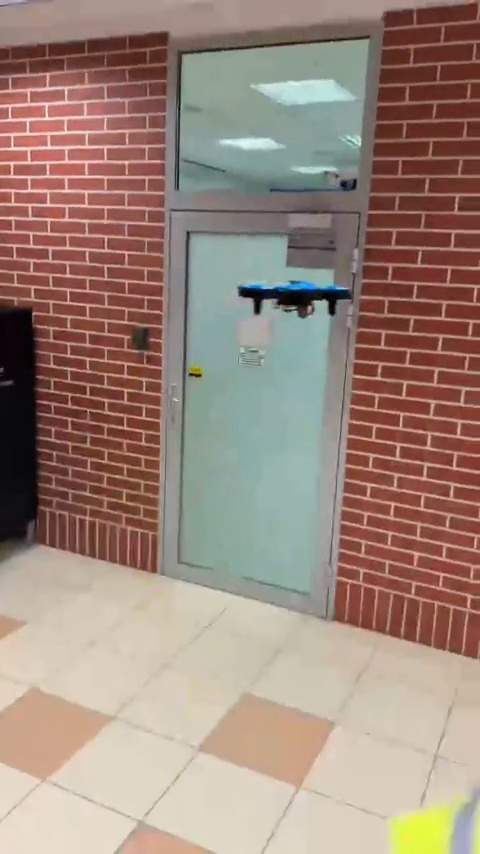drone: (237, 279, 352, 318)
